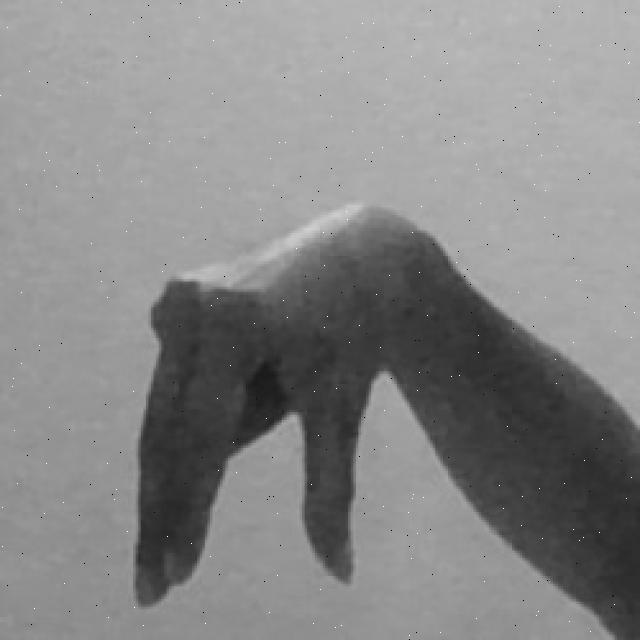Q: (125, 194, 637, 640)
